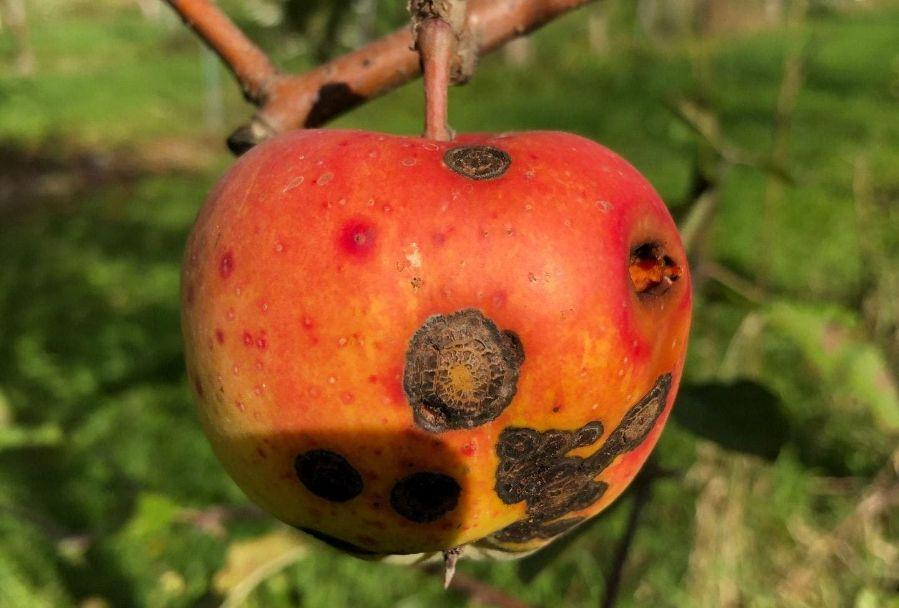SCAB: (175, 105, 703, 547)
